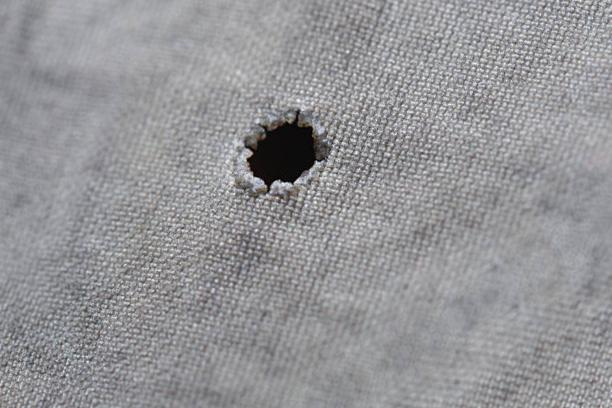hole: (235, 107, 332, 197)
